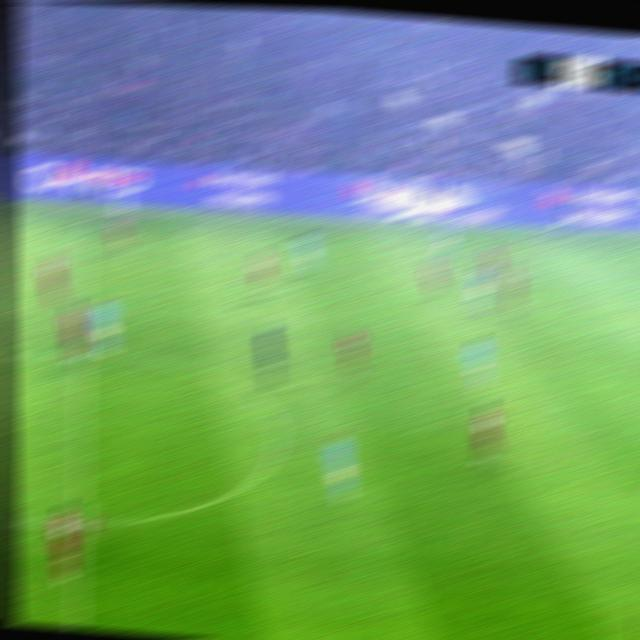halfcircle_bottom: (63, 506, 98, 540)
halfcircle_top: (68, 341, 99, 368)
midline_top_intersection: (71, 206, 99, 231)
